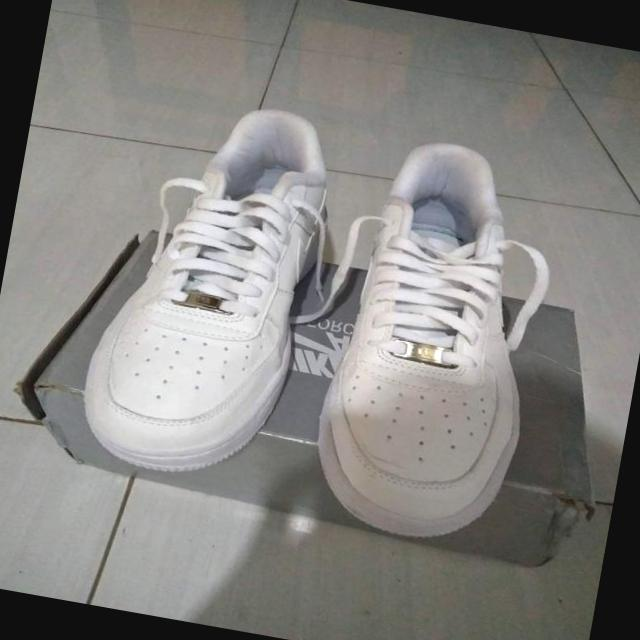nike_fake_airforce: (296, 124, 563, 548), (72, 78, 346, 490)
